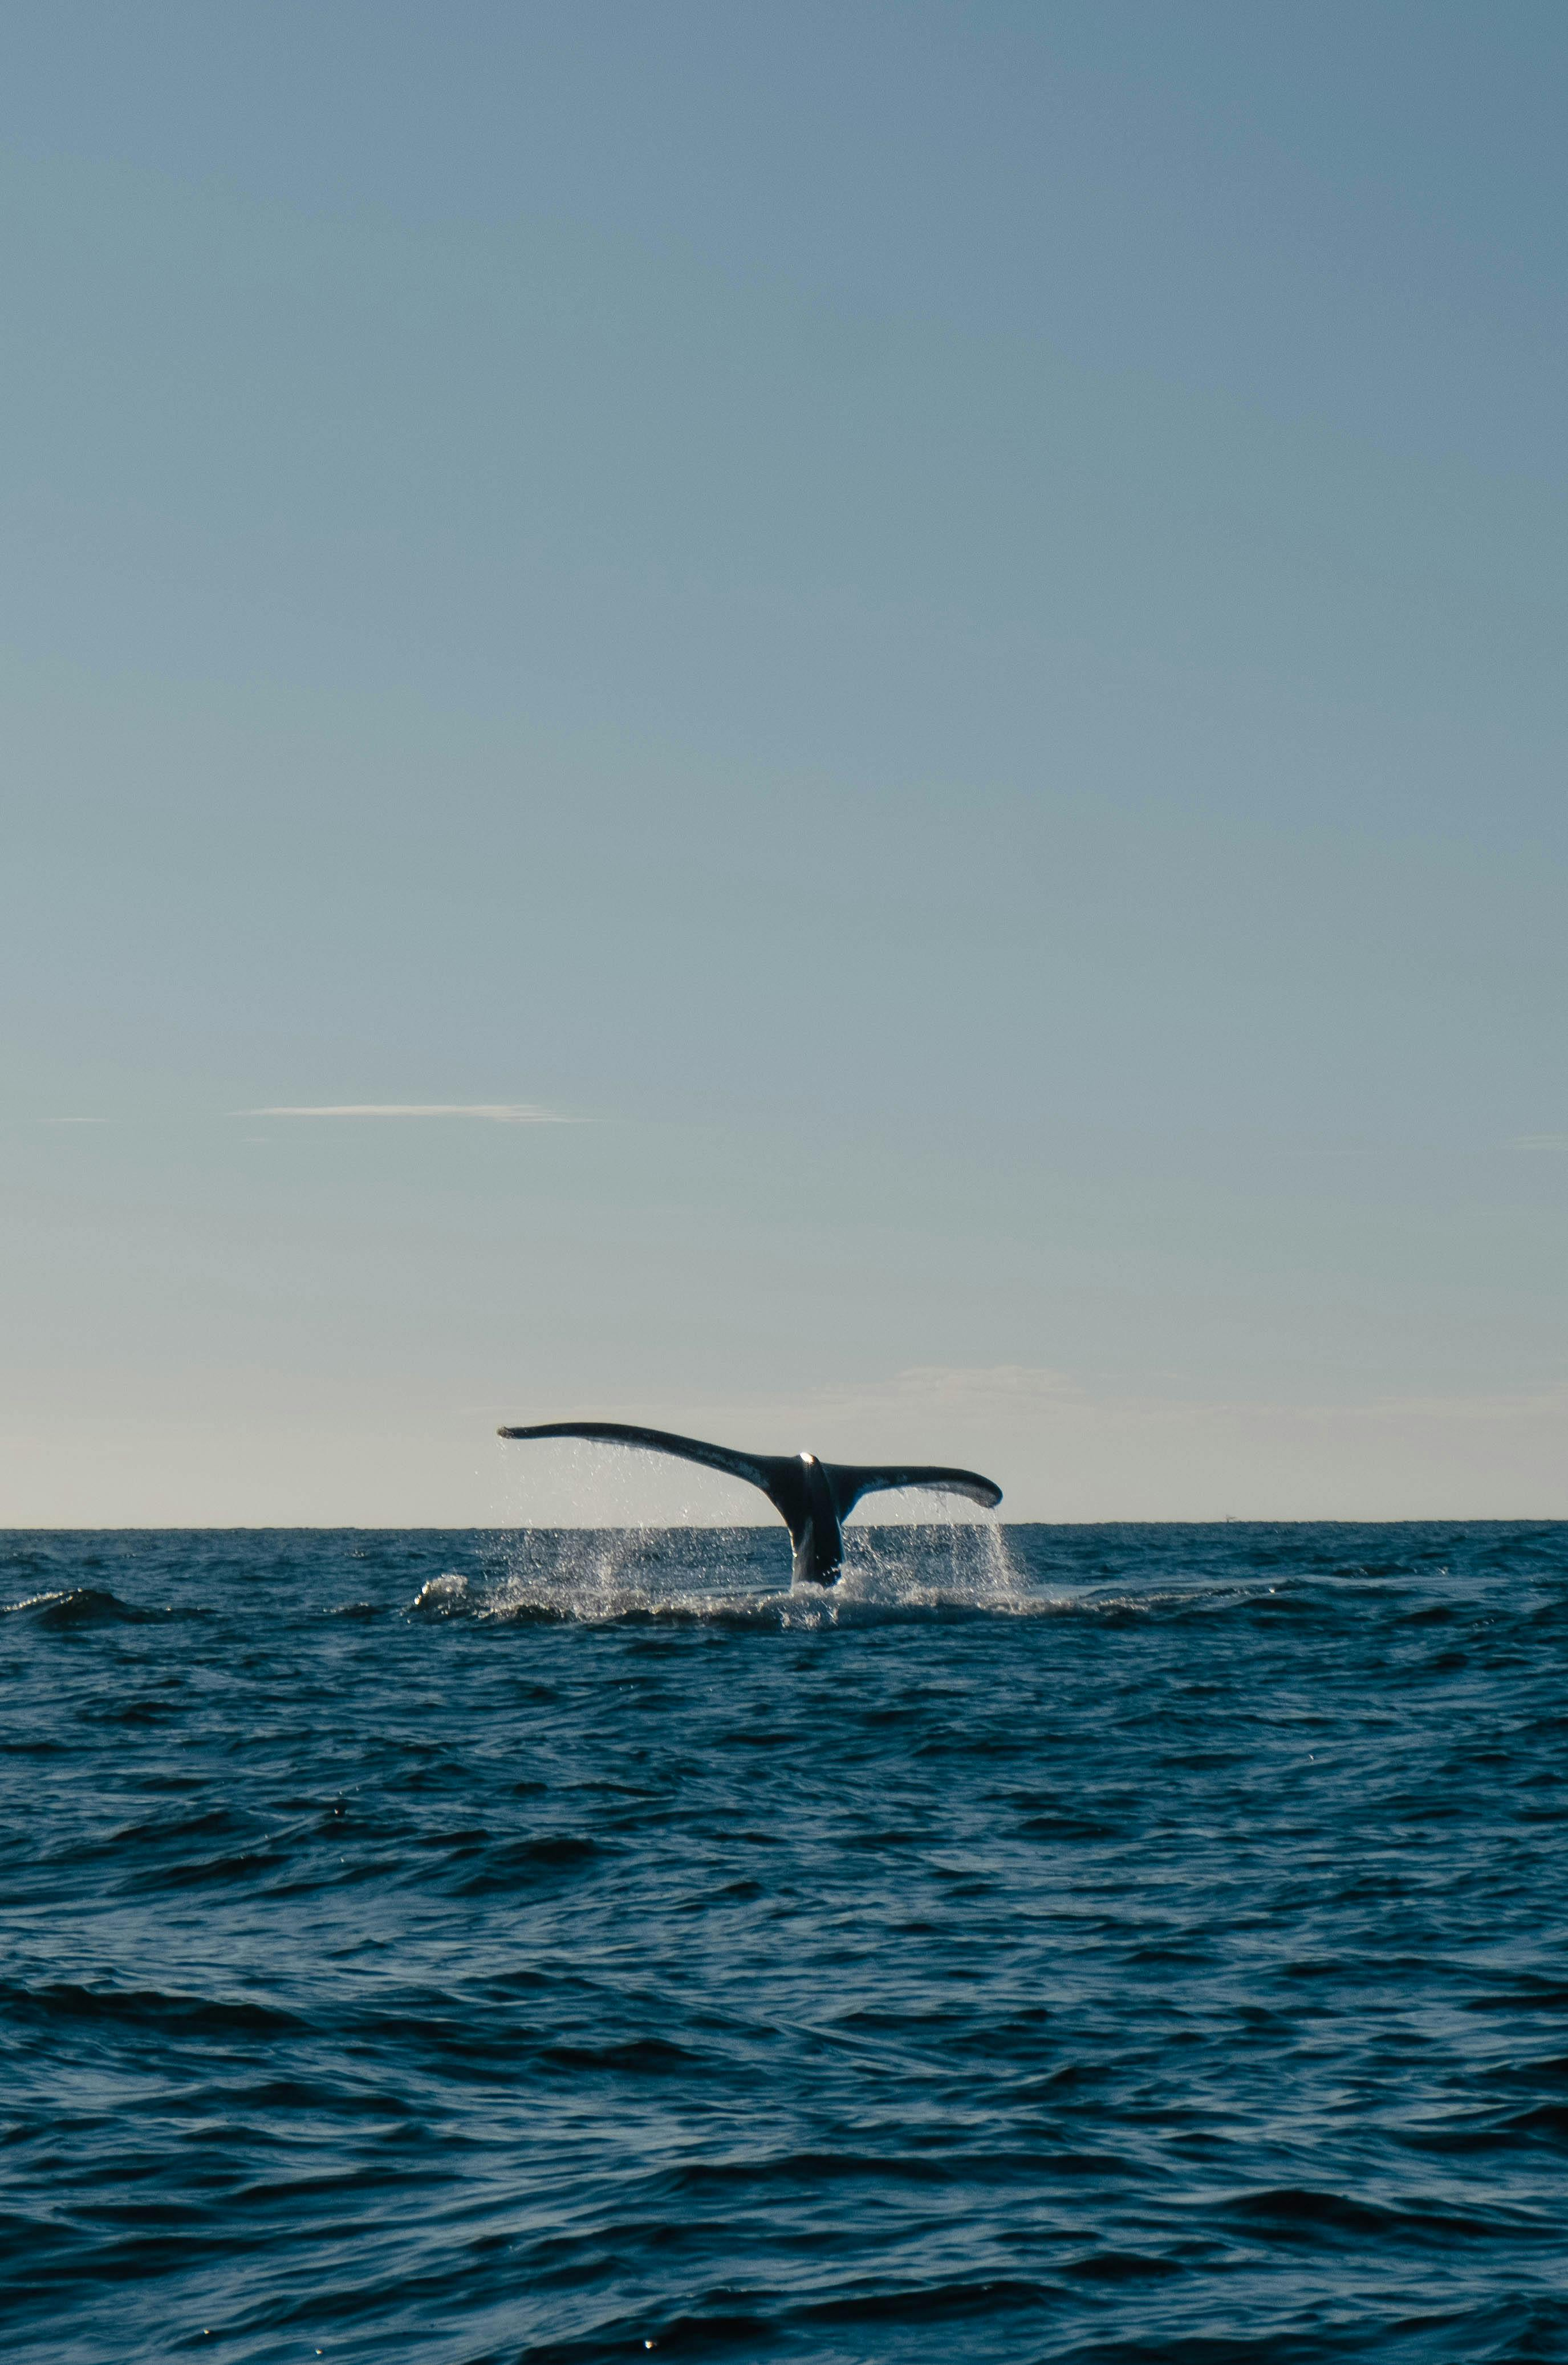whale: (492, 1413, 1003, 1611)
